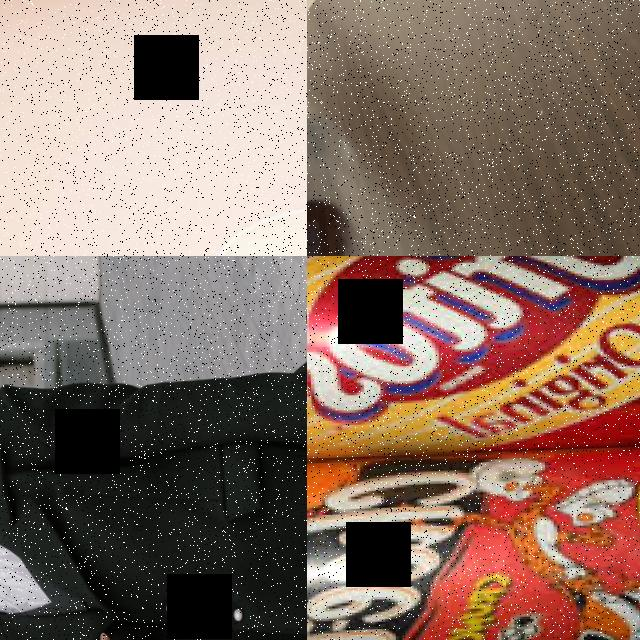can: (307, 256, 640, 466), (307, 445, 640, 640)
